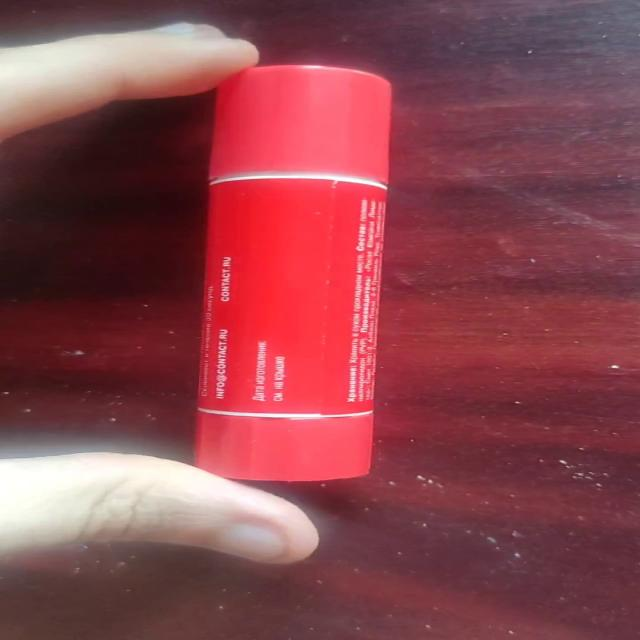glue: (192, 63, 392, 482)
